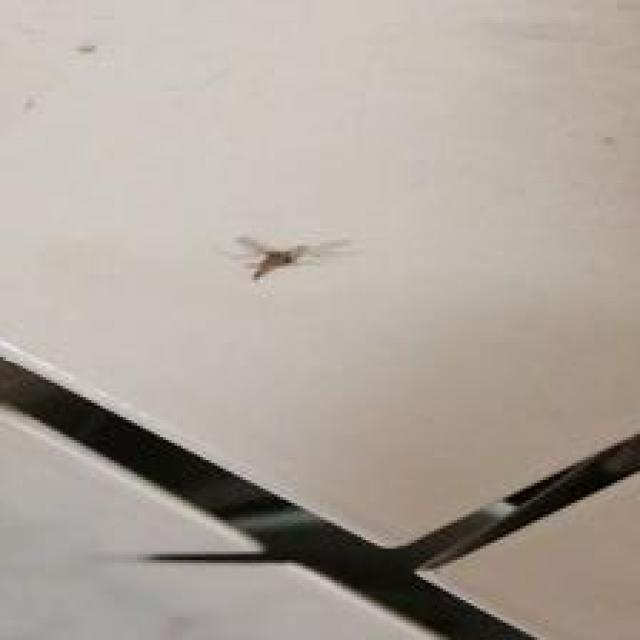Culex: (233, 233, 350, 281)
